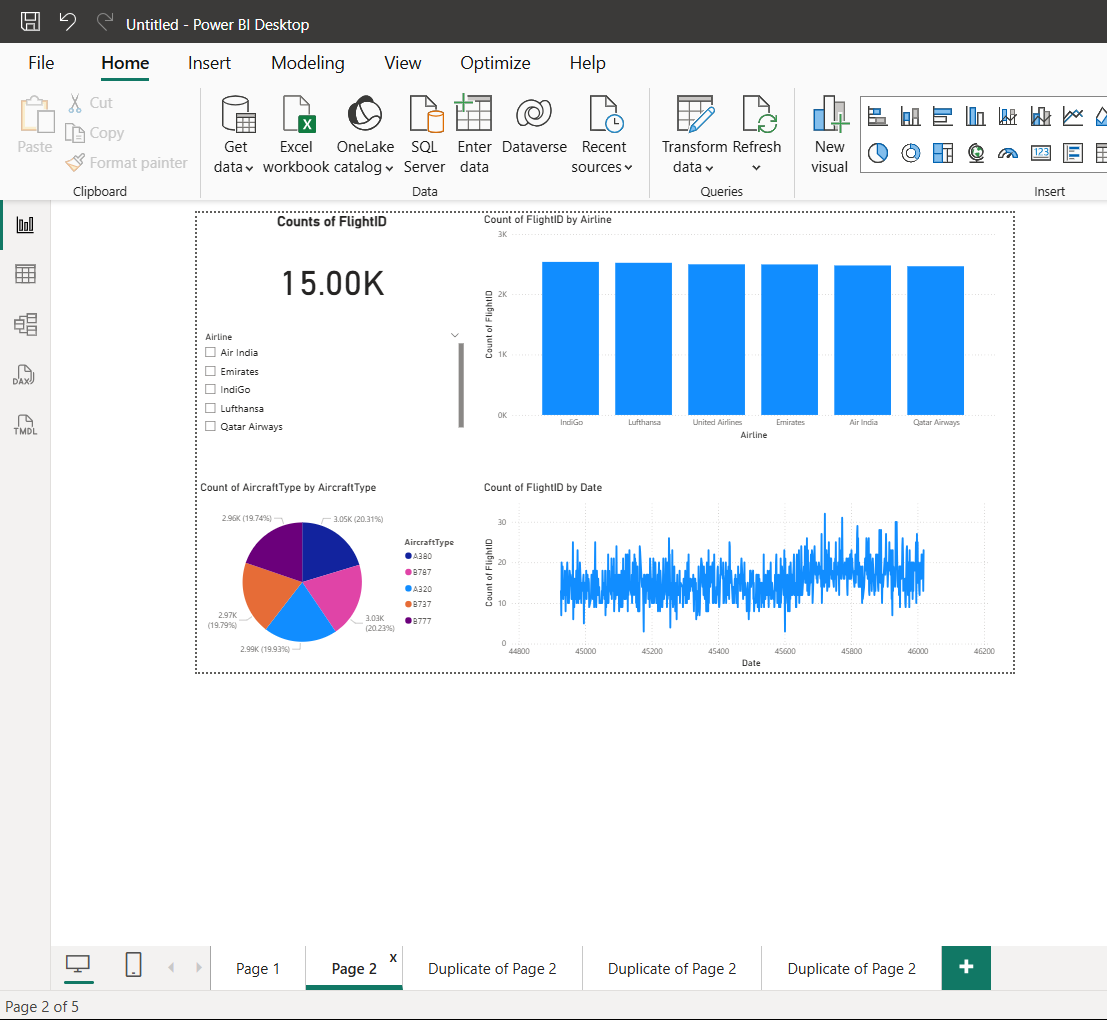

The page's visual inventory and layout, read from the dashboard file:
{"tool":"powerbi","page":{"name":"Page 2","canvas":[1280,720],"ordinal":0},"visuals":[{"type":"card","title":"Counts of FlightID","fields":{"Values":["CountNonNull(Sheet1.FlightID)"]},"box":[0,0,423.5,180.4],"z":0},{"type":"lineChart","fields":{"Category":["Sheet1.Date"],"Y":["CountNonNull(Sheet1.FlightID)"]},"box":[445.1,419.6,811.8,300],"z":1000},{"type":"columnChart","fields":{"Category":["Sheet1.Airline"],"Y":["CountNonNull(Sheet1.FlightID)"]},"box":[445.1,0,811.8,360.8],"z":2000},{"type":"pieChart","fields":{"Category":["Sheet1.AircraftType"],"Y":["CountNonNull(Sheet1.AircraftType)"]},"box":[0,419.6,423.5,300],"z":3000},{"type":"slicer","fields":{"Values":["Sheet1.Airline"]},"box":[0,180.4,423.5,180.4],"z":4000}]}

Visuals, with their boxes on the page's 1280x720 design canvas (x1, y1, x2, y2). These are canvas units, not pixel positions in the 1107x1020 screenshot, which may show the page scaled, cropped or inside an application window:
"Counts of FlightID" card: crop(0, 0, 424, 180)
lineChart - Sheet1.Date x CountNonNull(Sheet1.FlightID): crop(445, 420, 1257, 720)
columnChart - Sheet1.Airline x CountNonNull(Sheet1.FlightID): crop(445, 0, 1257, 361)
pieChart - Sheet1.AircraftType x CountNonNull(Sheet1.AircraftType): crop(0, 420, 424, 720)
slicer - Sheet1.Airline: crop(0, 180, 424, 361)
